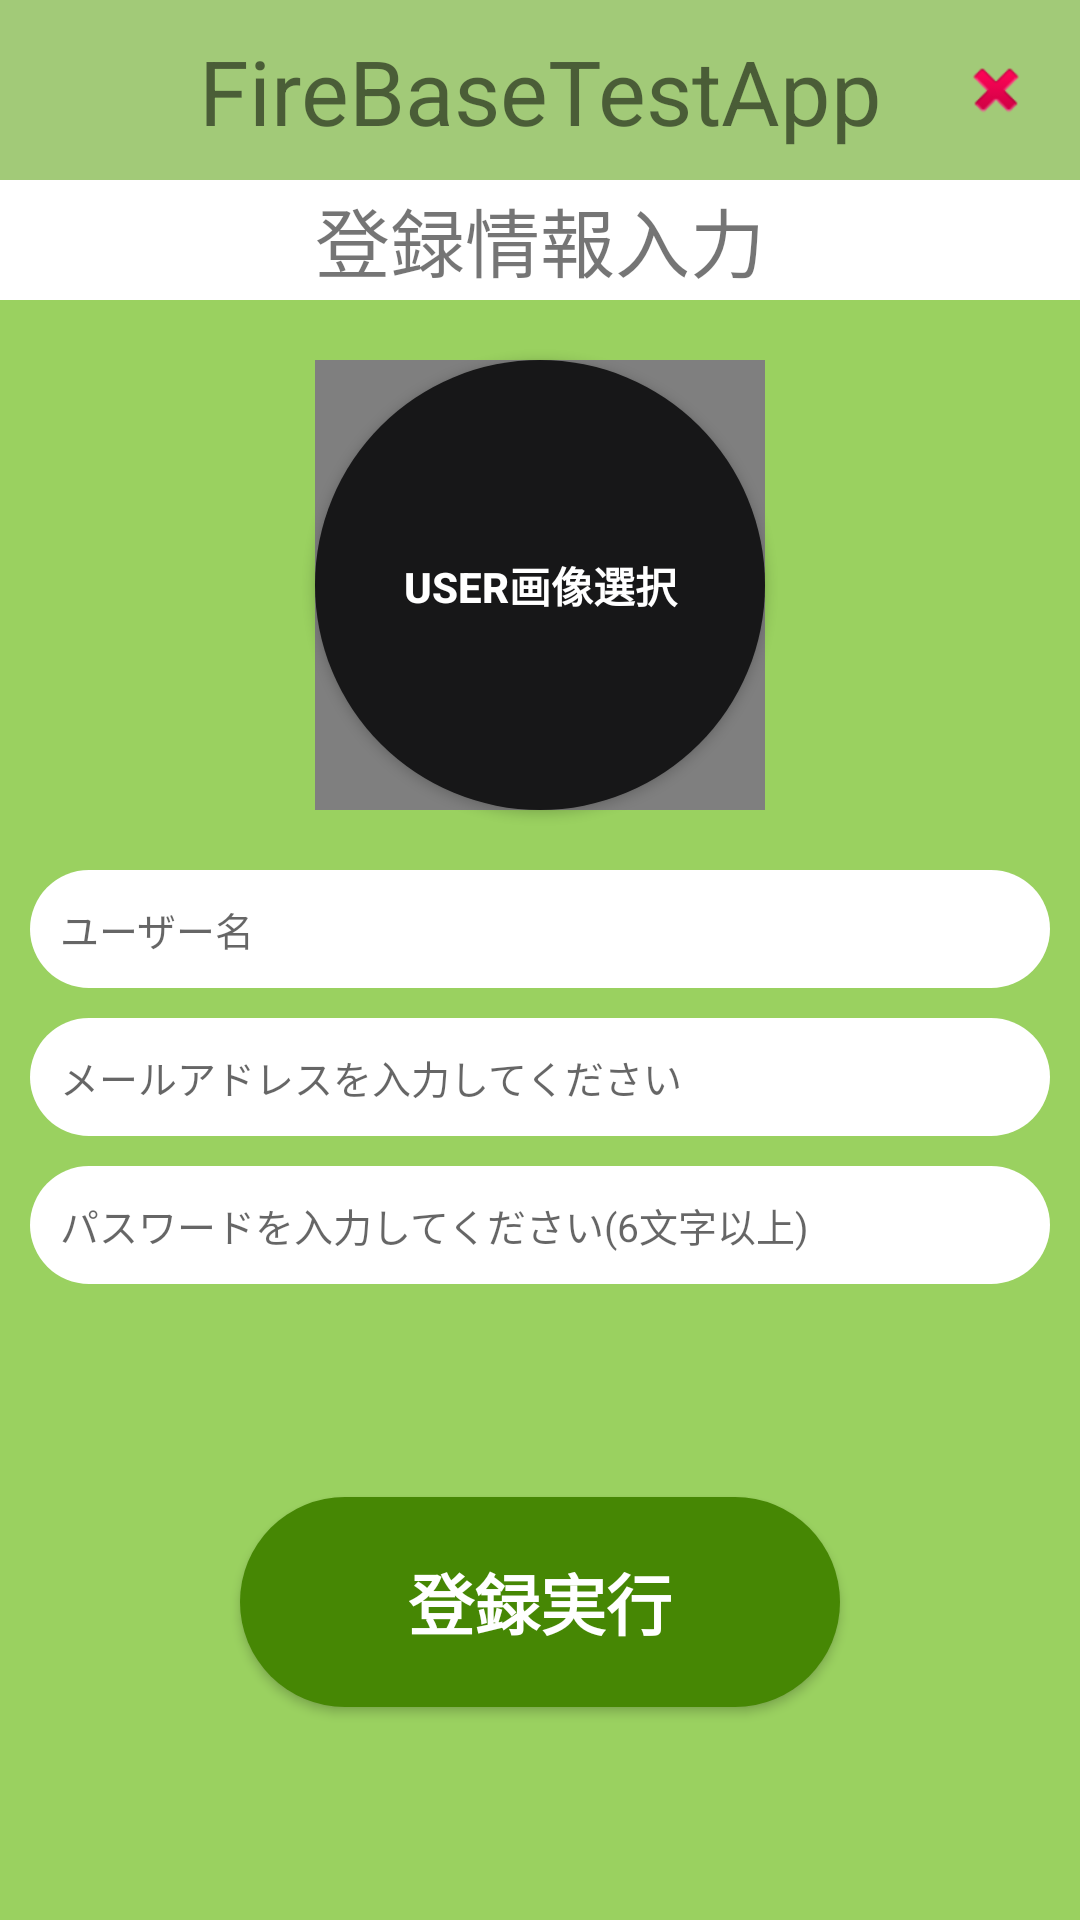

Point at icon controls on the screen. Image size 1080×1920, points as (x,y).
delete: (996,90)
